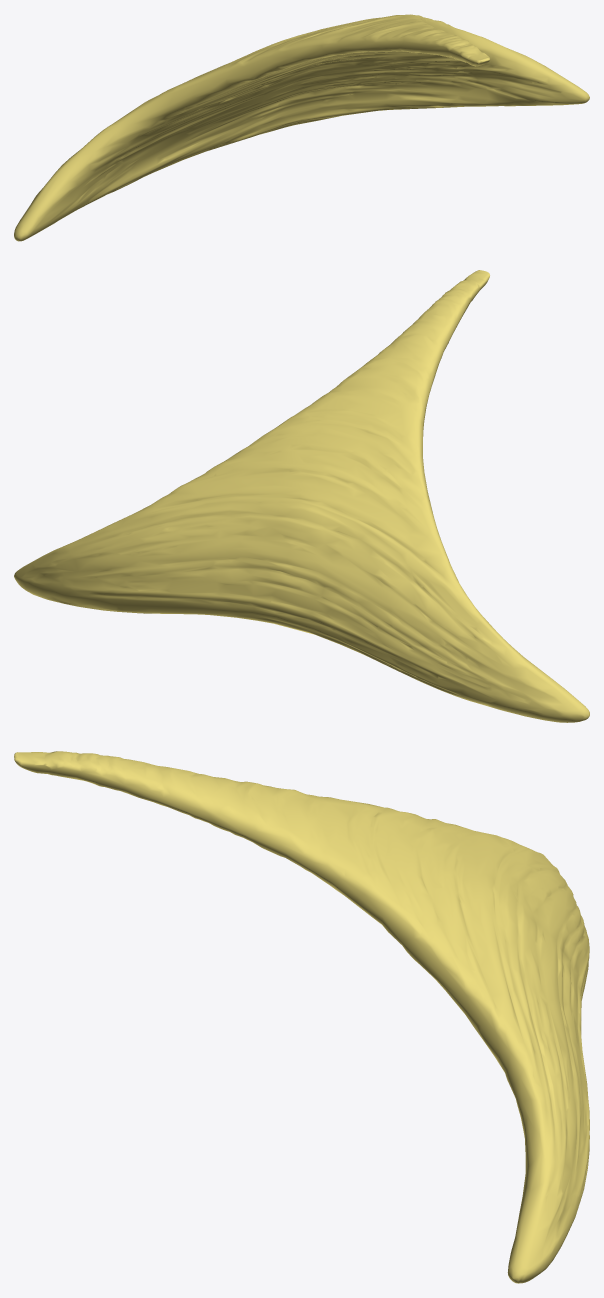
Rendered from hippocampal-commissure.glb.
The picture shows the model from 3 angles, top to bottom: view 1: azimuth 30°, elevation 25°; view 2: azimuth 150°, elevation 25°; view 3: azimuth 270°, elevation 25°; orthographic projection. The views are drawn at different scales.
Parts seen in each view (by area): view 1: Hippocampal commissure; view 2: Hippocampal commissure; view 3: Hippocampal commissure.
Part boxes in pixels (x1,y1,x2,y2): Hippocampal commissure: [14, 14, 589, 241]; Hippocampal commissure: [14, 270, 589, 722]; Hippocampal commissure: [14, 751, 589, 1283].
Bounding box in the file's own units: 0.0476 × 0.0197 × 0.03.
